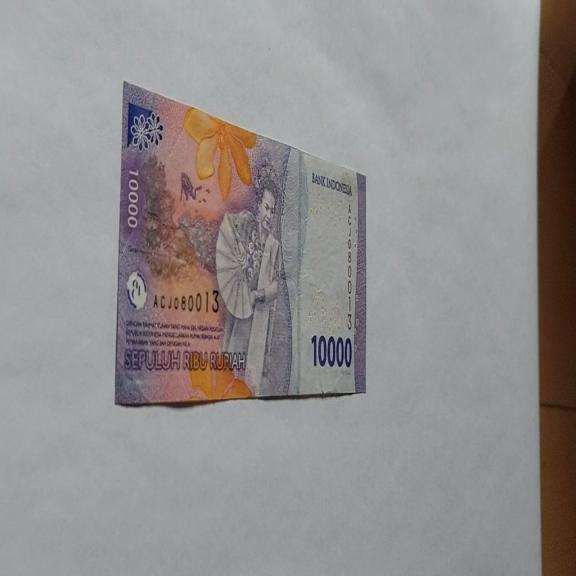Kertas: (114, 79, 367, 407)
